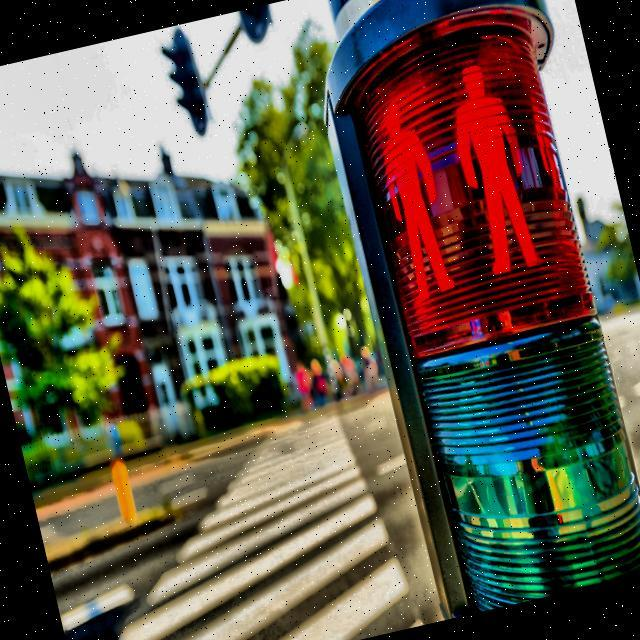red_light: (434, 52, 550, 282), (365, 89, 464, 309)
